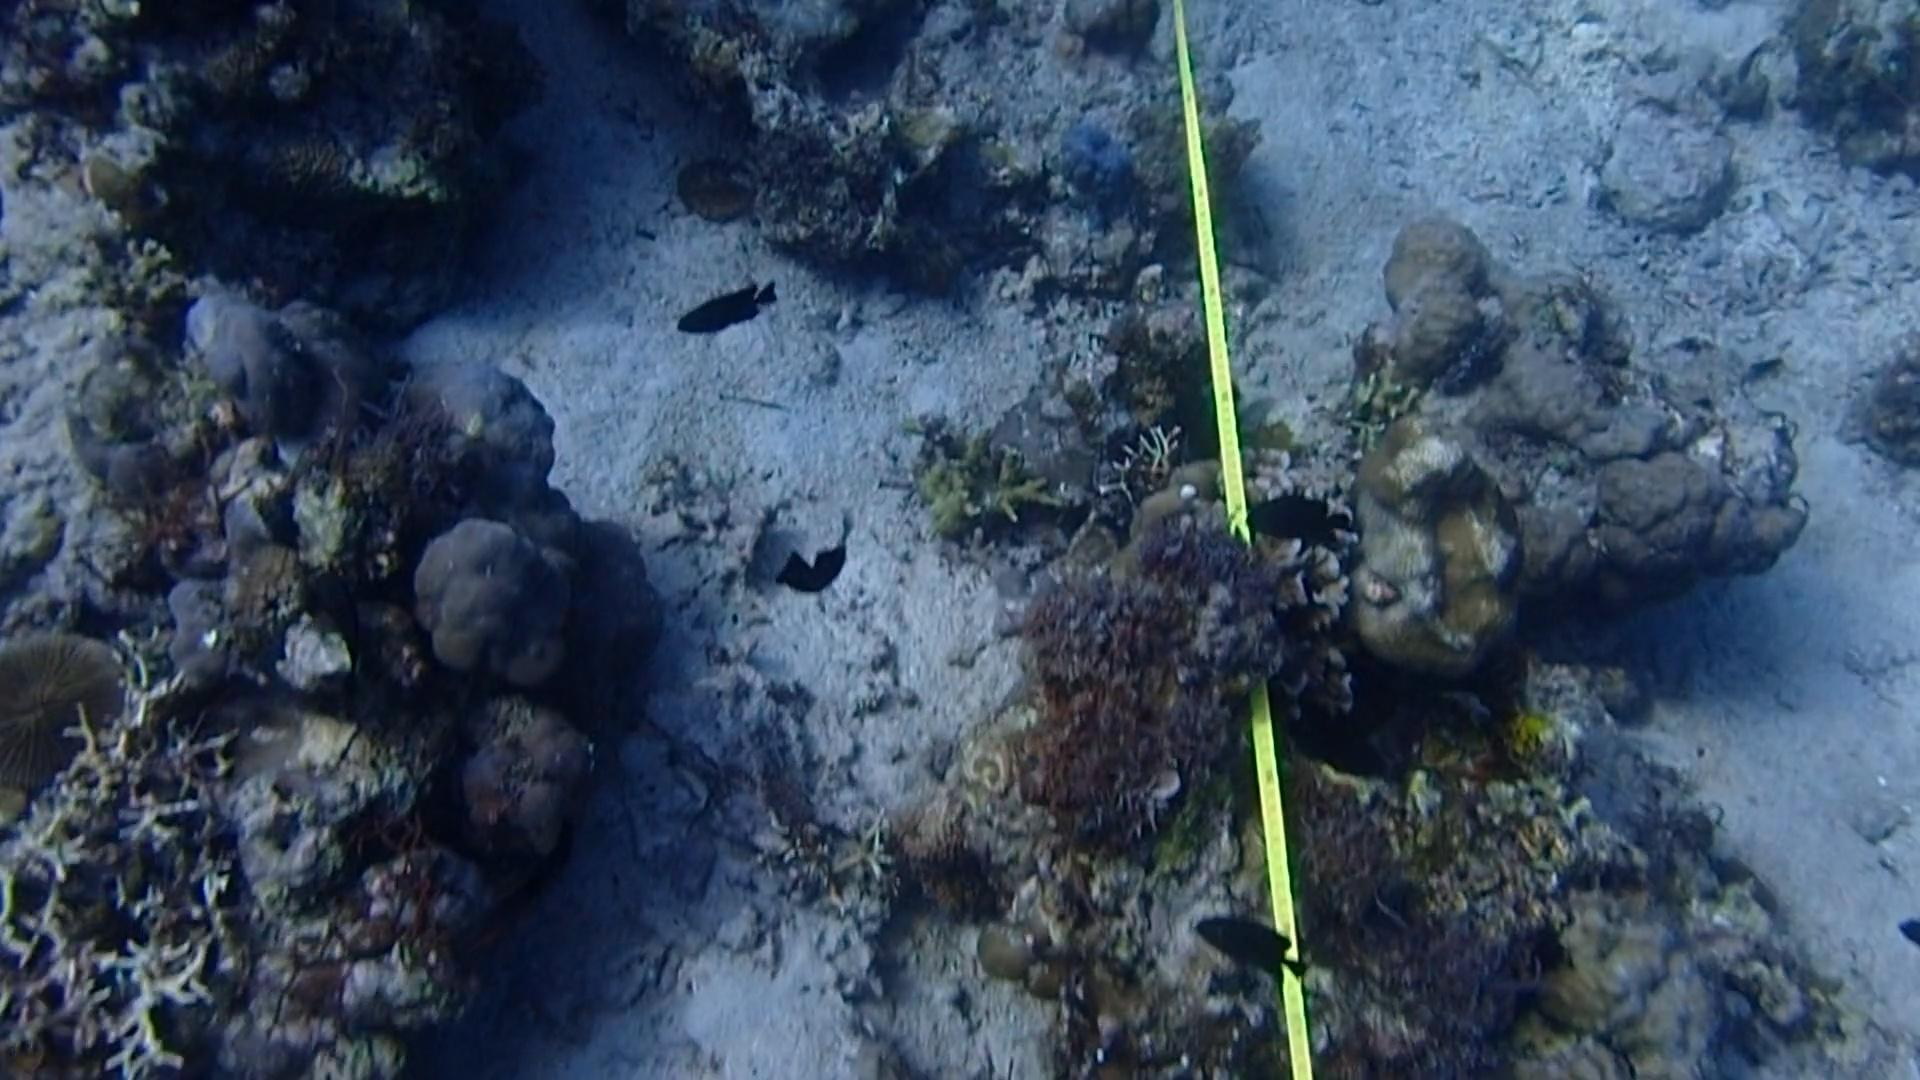Dark Fish: (284, 563, 400, 695), (452, 836, 572, 961), (1280, 698, 1391, 789), (666, 284, 789, 353), (1196, 913, 1304, 984), (1245, 491, 1348, 553), (773, 538, 856, 612)
Light Fish: (1718, 25, 1791, 88)
